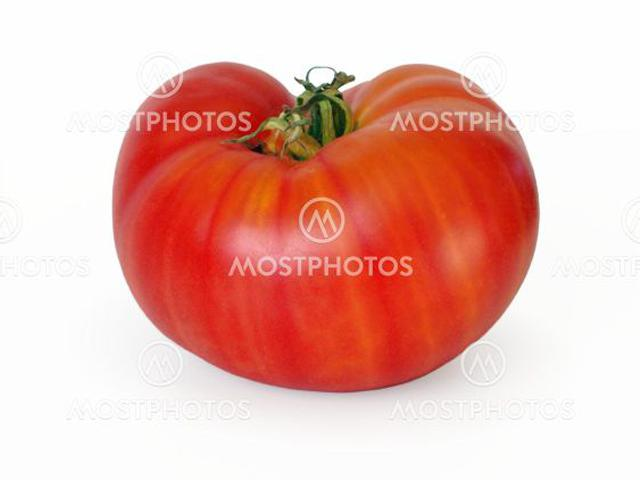tomato: (114, 61, 539, 390)
